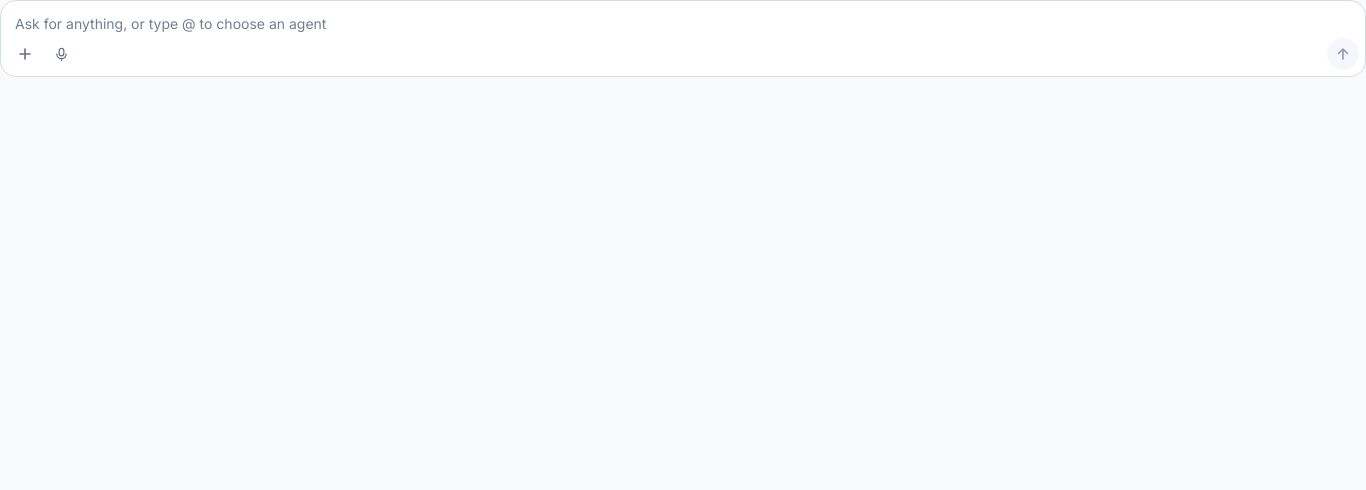
the + menu › explains when GitHub is not connected and points at Connectors
The width and height of the screenshot is (1366, 490).
Click the button named "Add to message". click: (25, 54)
box: [9,38,41,70]
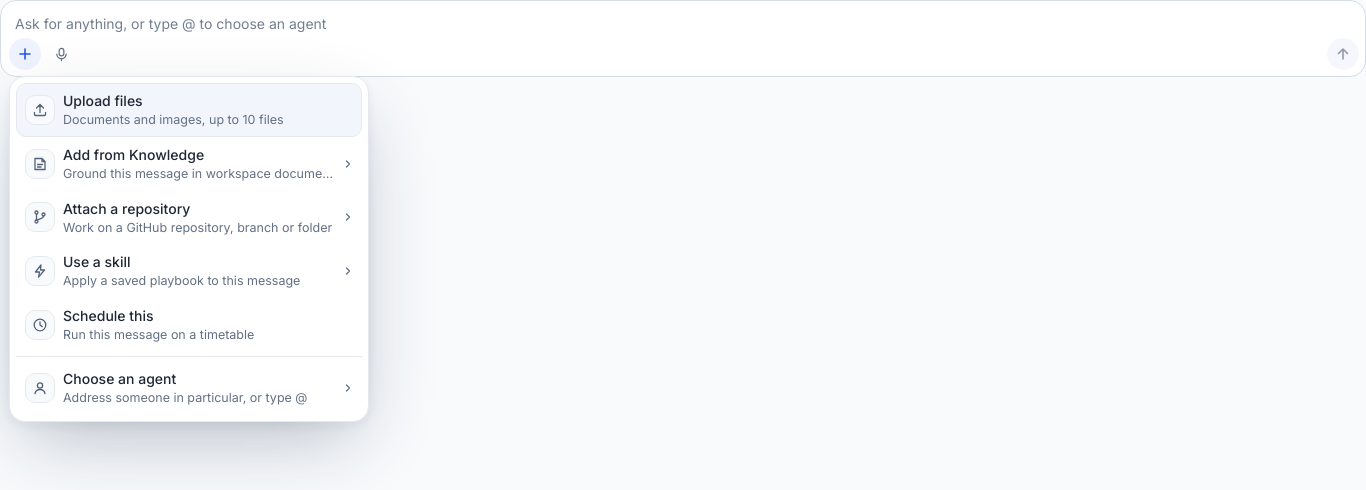
Click the menu item "Attach a repository". click: (189, 217)
box: [16,190,362,244]
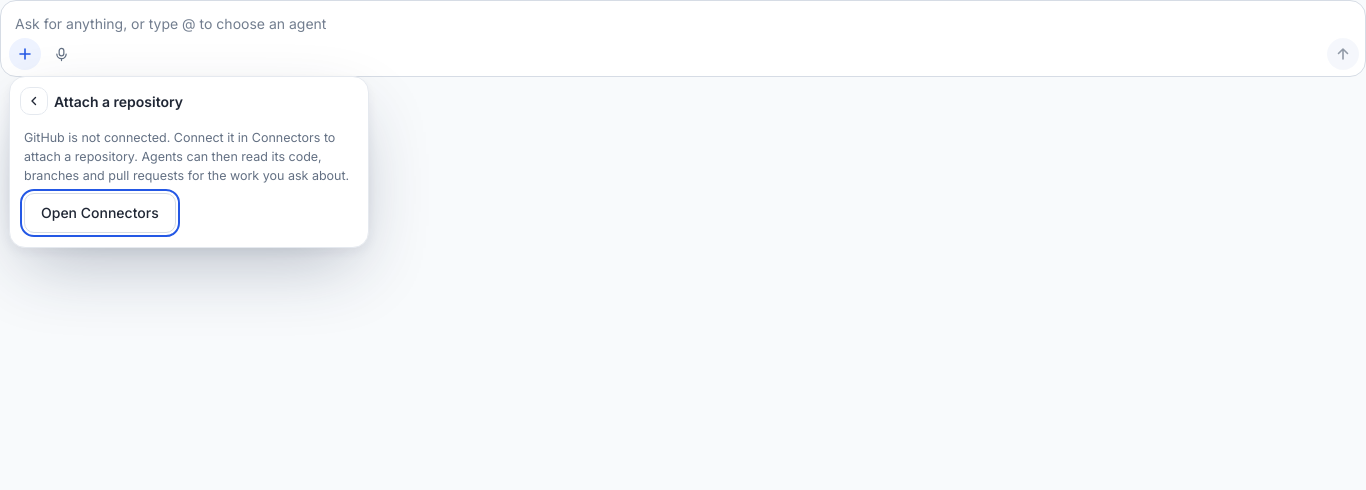
Check: the text "GitHub is not connected" is shown, box [24,130,335,164]
Check: the button "Open Connectors" is shown, box [24,193,176,233]
